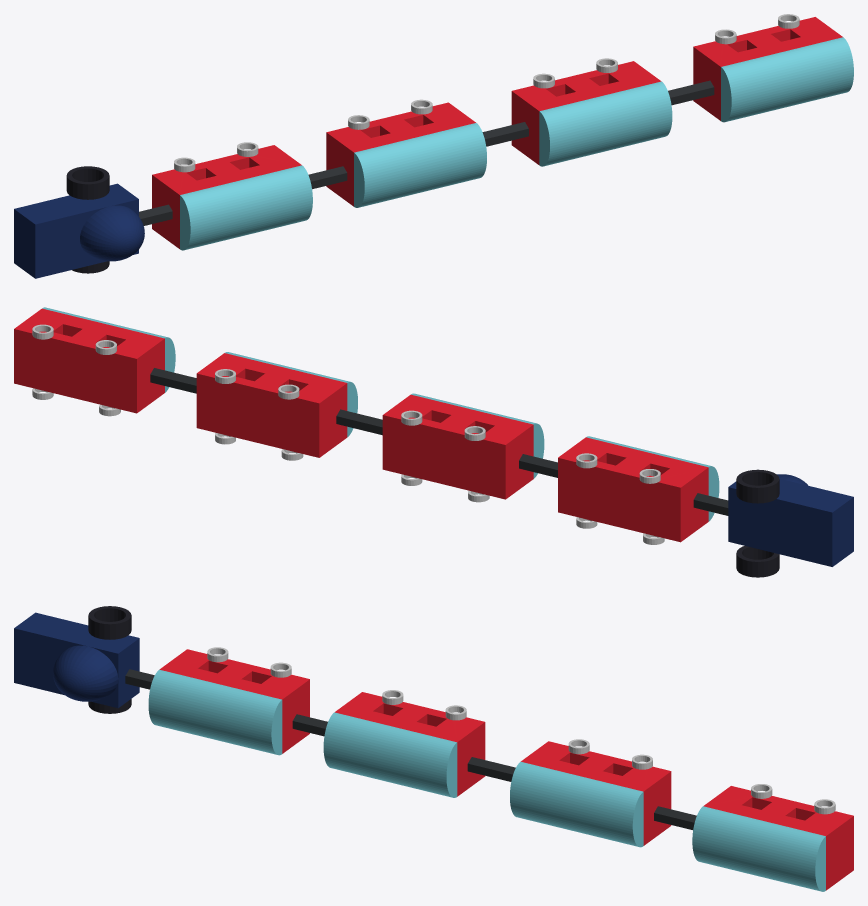
File: tinker.obj
The picture shows the model from 3 angles, top to bottom: view 1: azimuth 30°, elevation 25°; view 2: azimuth 150°, elevation 25°; view 3: azimuth 330°, elevation 25°; orthographic projection.
Parts seen in each view (by area): view 1: group_0_7720667, group_0_15277357, group_0_1650274, group_0_2829873, group_0_0, group_0_2039591; view 2: group_0_15277357, group_0_1650274, group_0_0, group_0_7720667, group_0_2829873, group_0_2039591; view 3: group_0_7720667, group_0_15277357, group_0_1650274, group_0_0, group_0_2829873, group_0_2039591.
Boxes of the visible parts, x1=… form: group_0_7720667: x1=180, y1=37, x2=853, y2=250; group_0_15277357: x1=152, y1=17, x2=842, y2=248; group_0_1650274: x1=14, y1=183, x2=144, y2=278; group_0_2829873: x1=139, y1=80, x2=714, y2=225; group_0_0: x1=174, y1=14, x2=799, y2=172; group_0_2039591: x1=66, y1=166, x2=109, y2=273; group_0_15277357: x1=14, y1=308, x2=708, y2=542; group_0_1650274: x1=728, y1=474, x2=853, y2=566; group_0_0: x1=32, y1=324, x2=664, y2=544; group_0_7720667: x1=42, y1=307, x2=719, y2=521; group_0_2829873: x1=150, y1=368, x2=728, y2=515; group_0_2039591: x1=736, y1=469, x2=779, y2=577; group_0_7720667: x1=148, y1=669, x2=825, y2=891; group_0_15277357: x1=159, y1=649, x2=853, y2=890; group_0_1650274: x1=14, y1=612, x2=139, y2=708; group_0_0: x1=207, y1=647, x2=835, y2=814; group_0_2829873: x1=125, y1=669, x2=696, y2=829; group_0_2039591: x1=88, y1=606, x2=131, y2=713.
Bounding box in the file's own units: 218 × 23 × 24.
